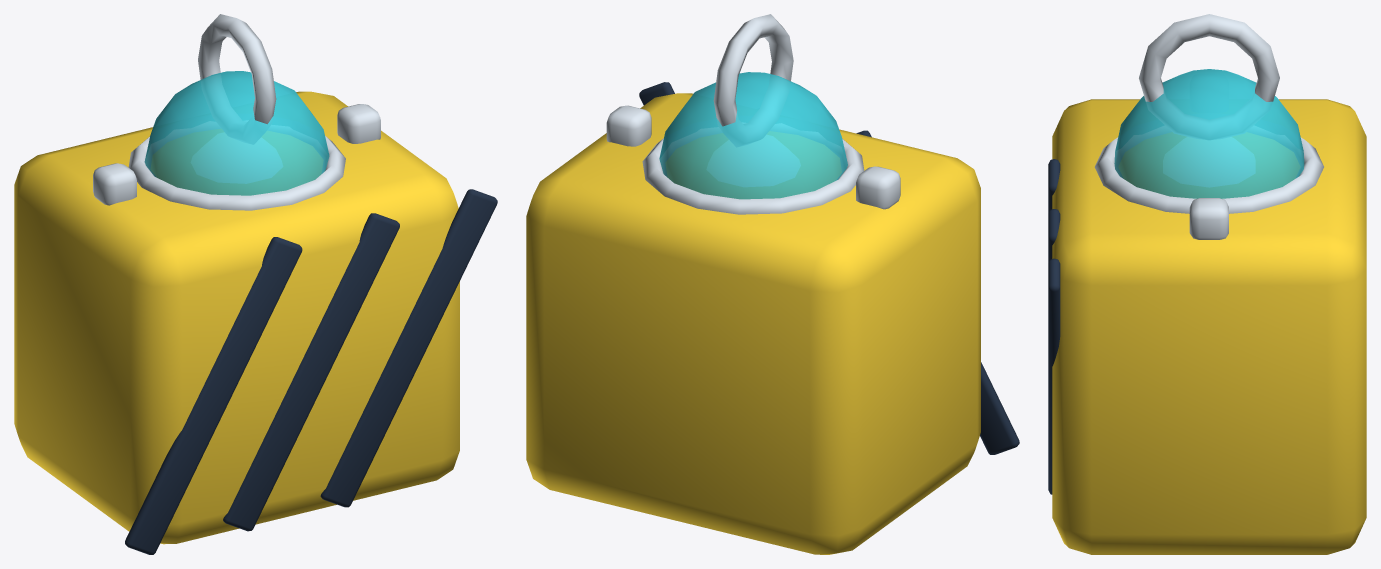
The model's file is NukeCrate.fbx.
3 renders of one model, left to right at view 1: azimuth 30°, elevation 25°; view 2: azimuth 150°, elevation 25°; view 3: azimuth 270°, elevation 25°, orthographic. The views are drawn at different scales.
Visible parts, largest first — view 1: NukeCrate; view 2: NukeCrate; view 3: NukeCrate.
Part boxes in pixels (x1=…): NukeCrate: x1=14, y1=14, x2=497, y2=554; NukeCrate: x1=526, y1=14, x2=1019, y2=554; NukeCrate: x1=1048, y1=14, x2=1366, y2=554.
Bounding box in the file's own units: 0.4556 × 0.532 × 0.324.
